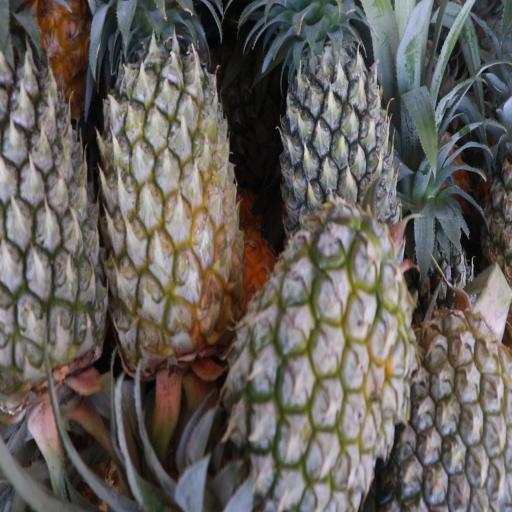------------------------------: (102, 0, 238, 367), (233, 221, 405, 504)
